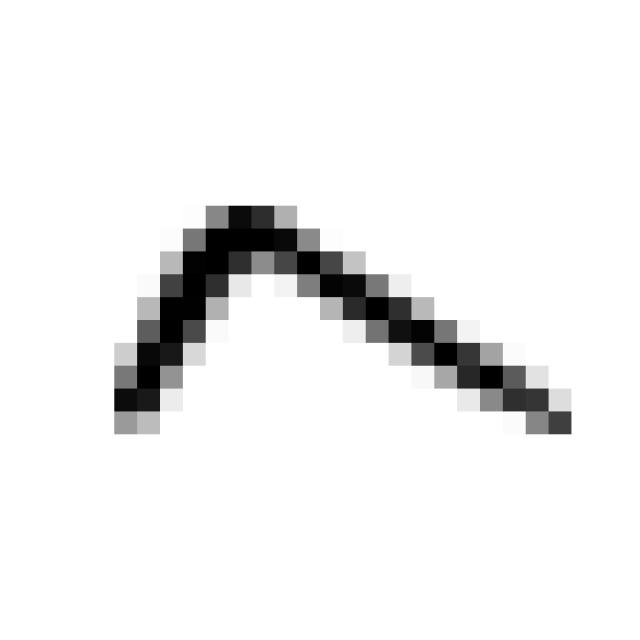8 -eight-: (80, 180, 587, 462)
